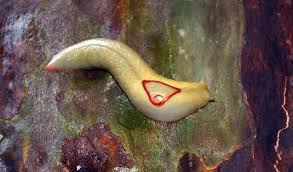slug: (45, 38, 212, 116)
